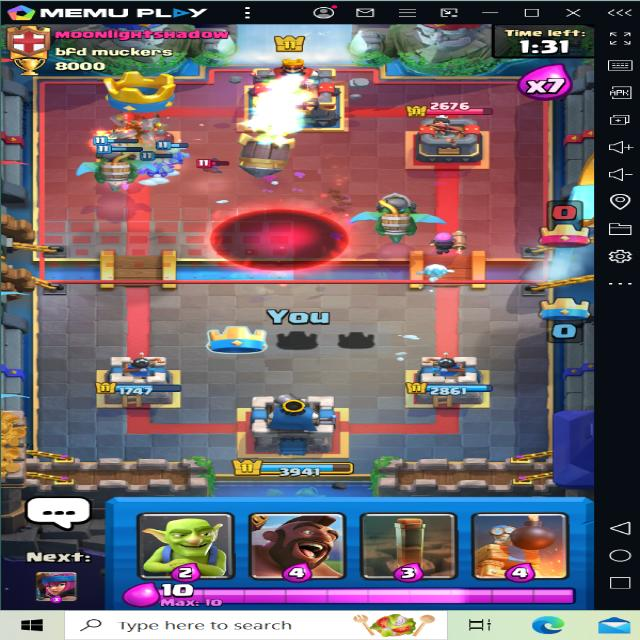bats: (194, 152, 235, 185)
rocket: (223, 129, 303, 181)
void: (203, 206, 368, 278)
